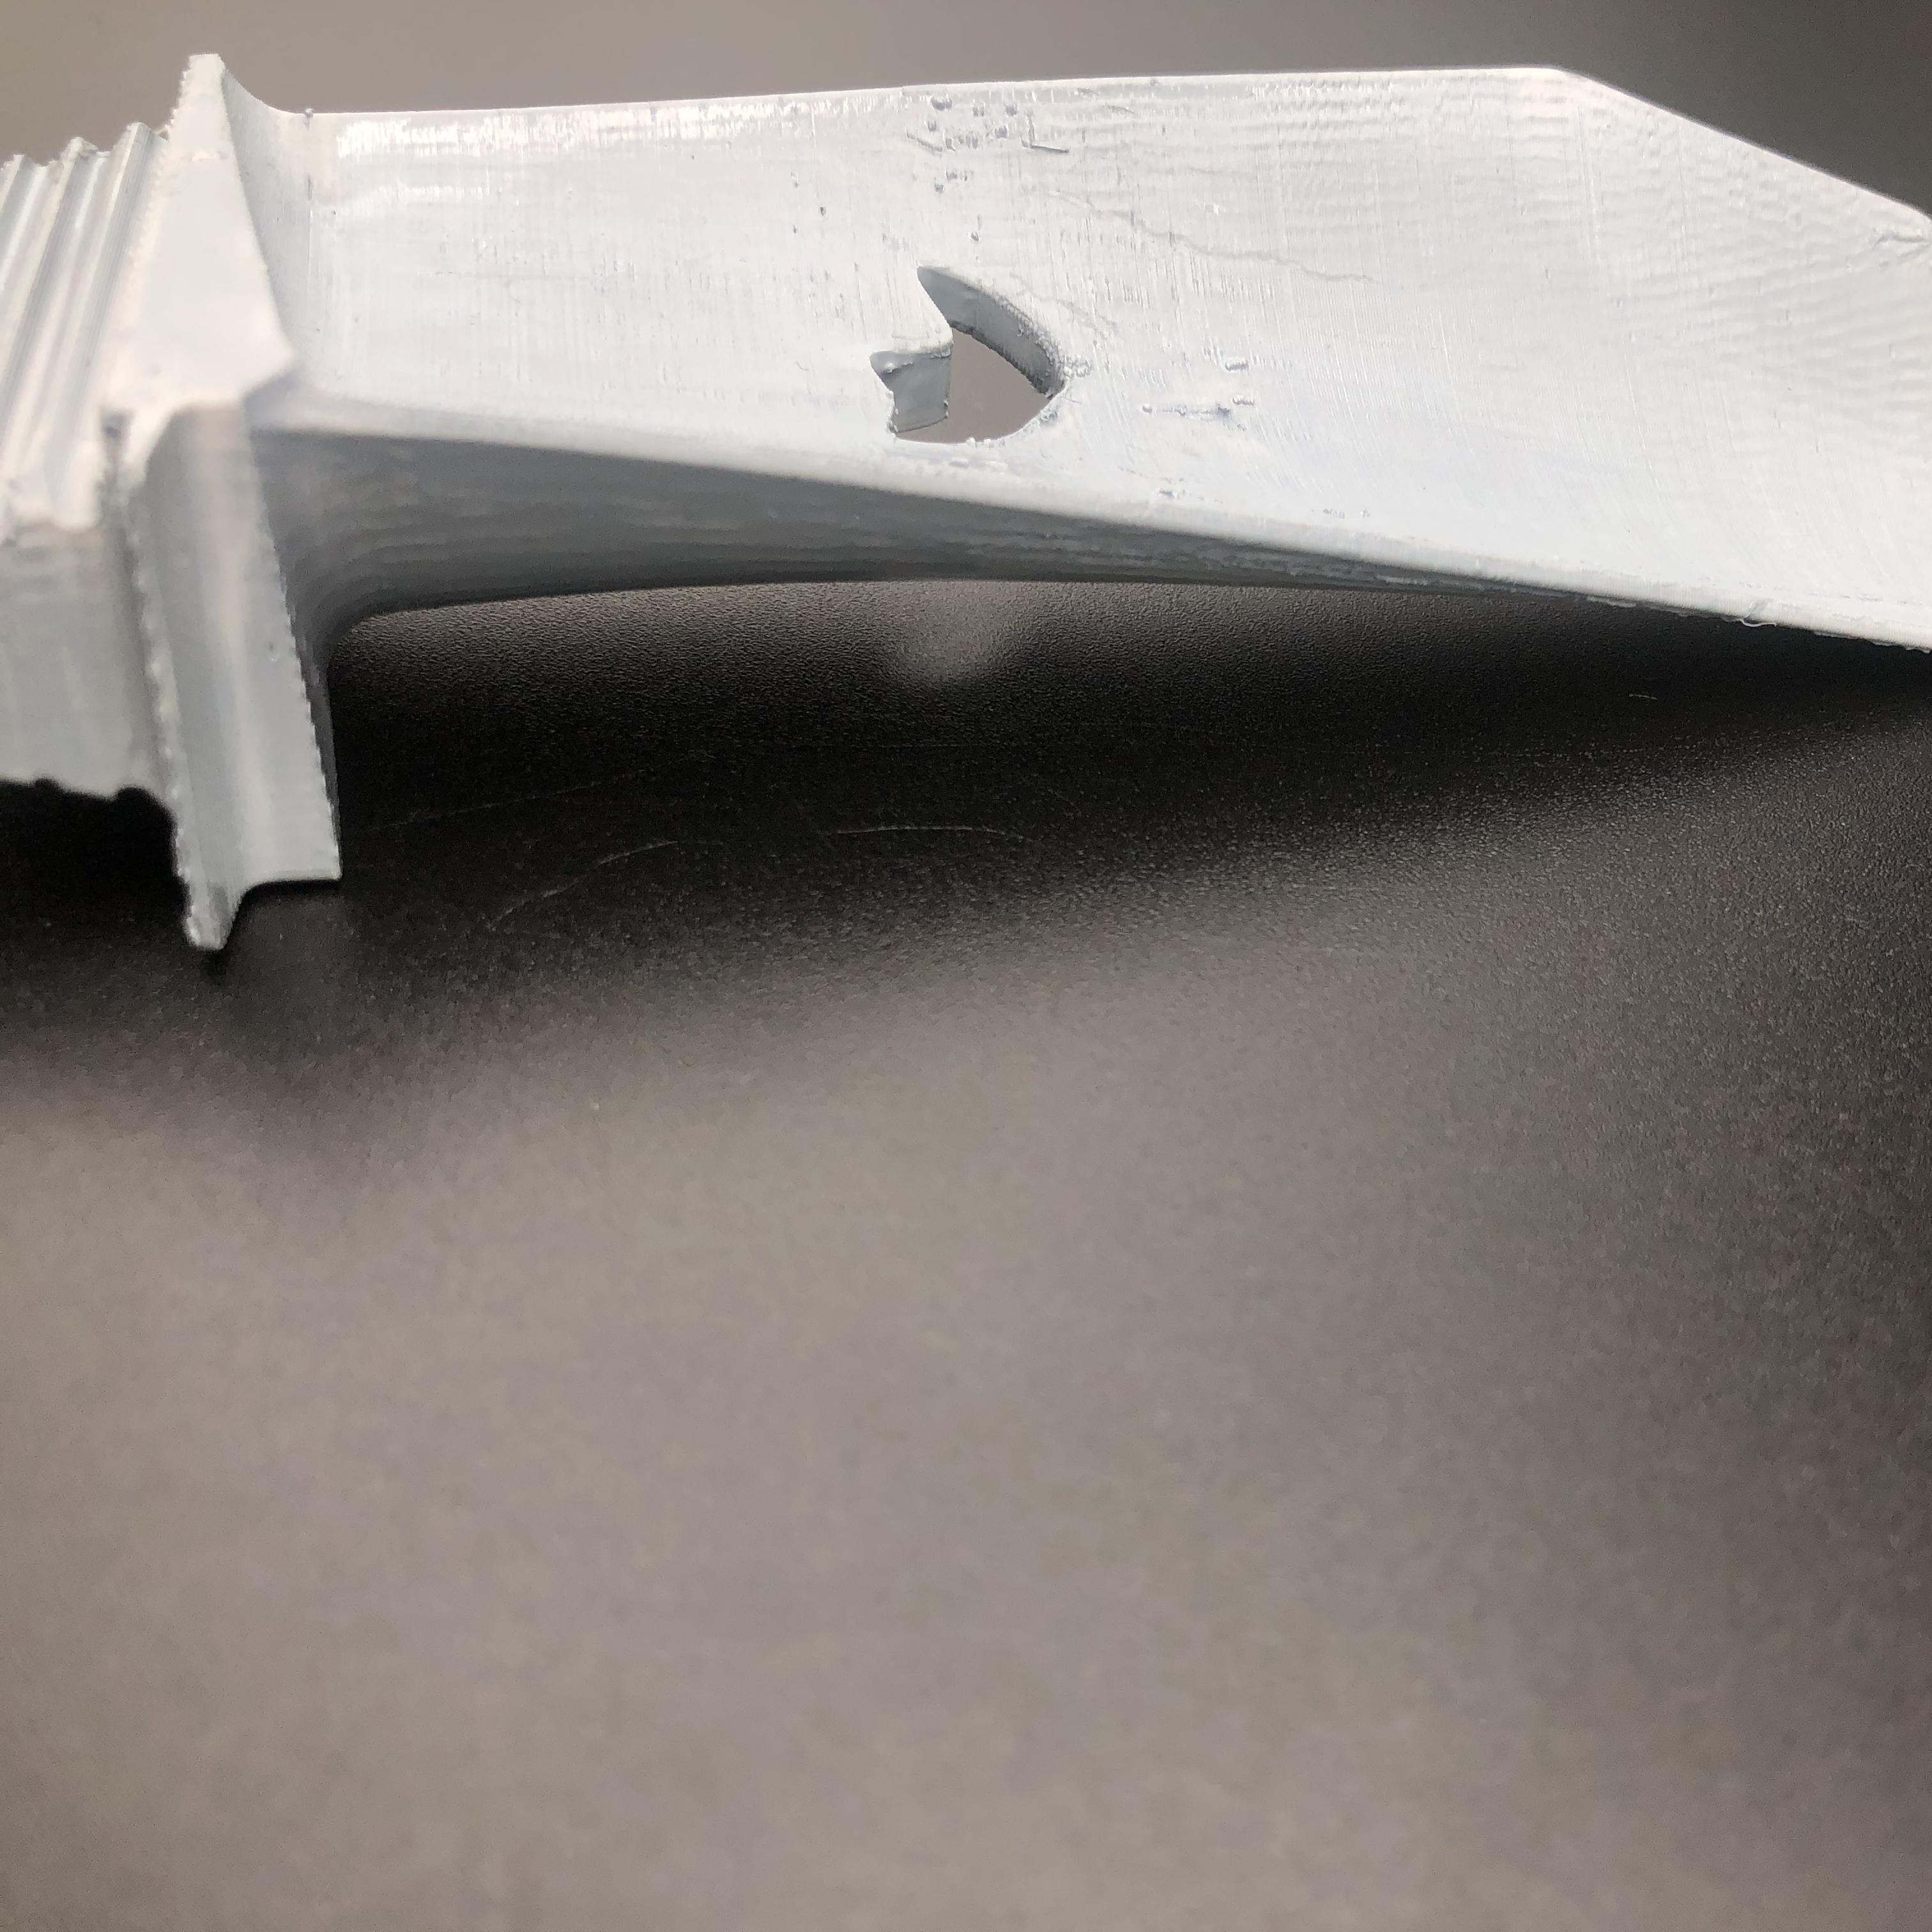breakdown: (855, 258, 1085, 453)
